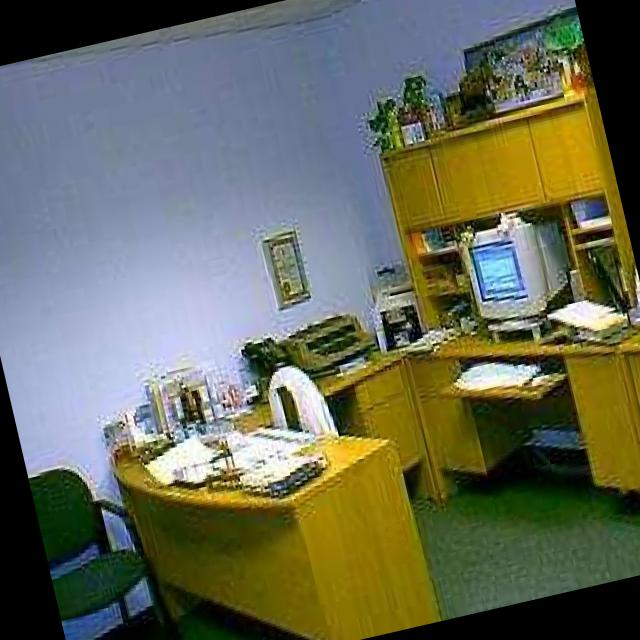ceiling beam: (61, 0, 356, 51)
chair -occluded-: (29, 464, 186, 640), (266, 361, 335, 431)
desk calendar: (370, 88, 640, 498), (107, 353, 438, 640)
floor -X: (412, 484, 640, 618), (92, 606, 166, 640)
key board: (448, 363, 565, 398)
key board shelf: (450, 361, 538, 387)
monitpr: (462, 216, 567, 341)
mouse pad: (530, 369, 558, 384)
object: (239, 330, 295, 399), (625, 264, 640, 327), (494, 207, 523, 237), (565, 267, 583, 300), (457, 220, 473, 249)
objectds: (577, 242, 628, 308)
objects: (99, 363, 260, 464), (141, 423, 325, 493), (364, 70, 475, 151), (367, 254, 423, 350), (547, 295, 630, 340), (404, 300, 474, 352), (413, 223, 459, 251), (569, 195, 609, 225)
picture crop: (462, 5, 593, 120), (256, 228, 311, 311)
typewriter: (274, 308, 377, 377)
wall clock: (0, 0, 573, 640)
